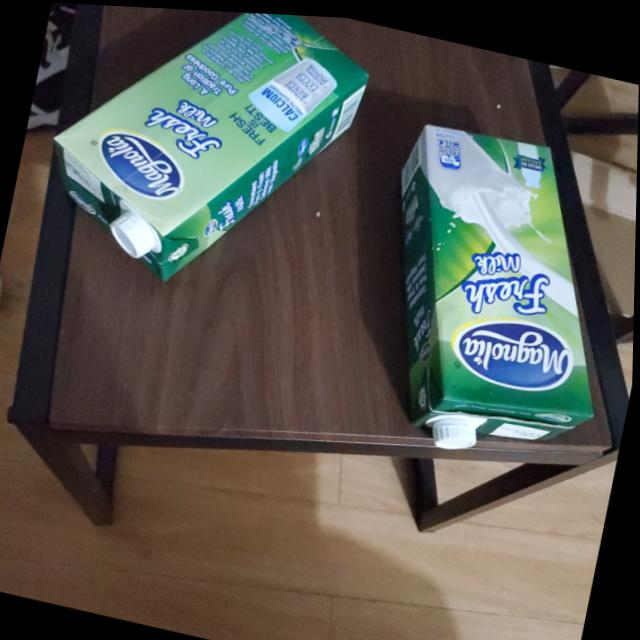milk: (30, 1, 382, 317), (348, 106, 638, 474)
